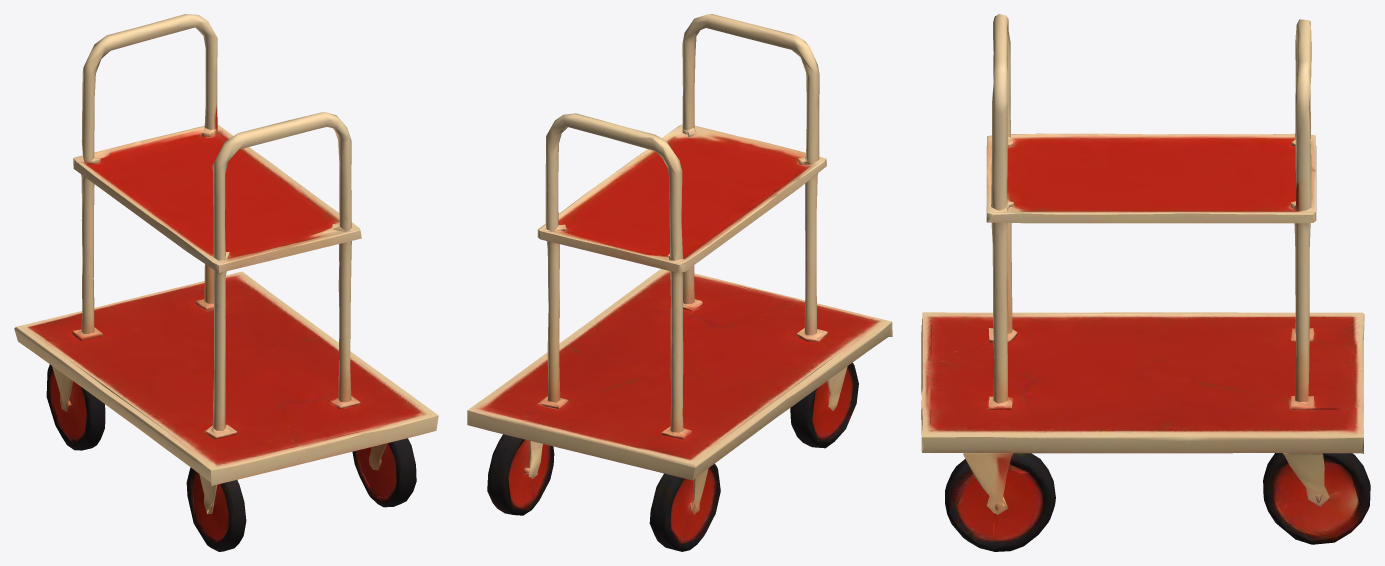
The model's file is bellboyTrolleyV3T.glb.
The picture shows the model from 3 angles, left to right: view 1: azimuth 30°, elevation 25°; view 2: azimuth 150°, elevation 25°; view 3: azimuth 270°, elevation 25°; orthographic projection. The views are drawn at different scales.
Parts seen in each view (by area): view 1: model; view 2: model; view 3: model.
Part boxes in pixels (x1=…): model: x1=14, y1=14, x2=438, y2=551; model: x1=467, y1=14, x2=892, y2=551; model: x1=921, y1=14, x2=1370, y2=551.
Size of the model in its own units: 1.12 by 1.9 by 1.7.
Materials: 1 (1 with a texture image).
